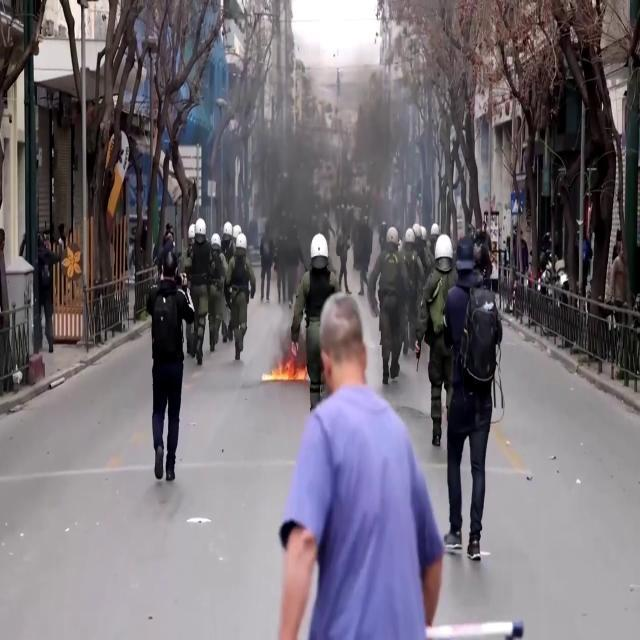Fire: (263, 354, 303, 386)
Smoke: (225, 60, 383, 240)
